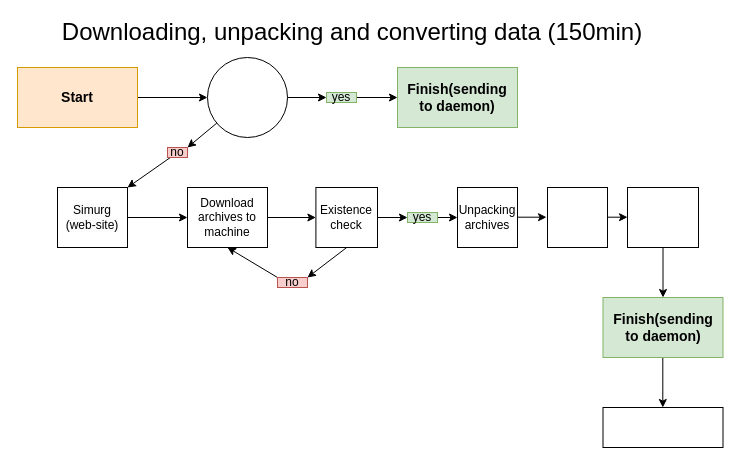
Some shapes in this 741 by 465 pixel diagram are drawn without their labels. The box of each missing label's shape, as (x1, y1, x2, y2) in pixels:
Converting to rinex: (546, 186, 608, 248)
Dataset to three previous days: (206, 56, 288, 138)
Deleting rinex files: (602, 406, 723, 448)
Deleting zip archives: (626, 186, 698, 248)
